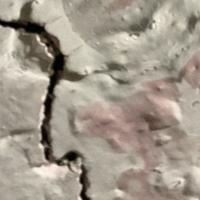crack: (0, 10, 98, 199)
